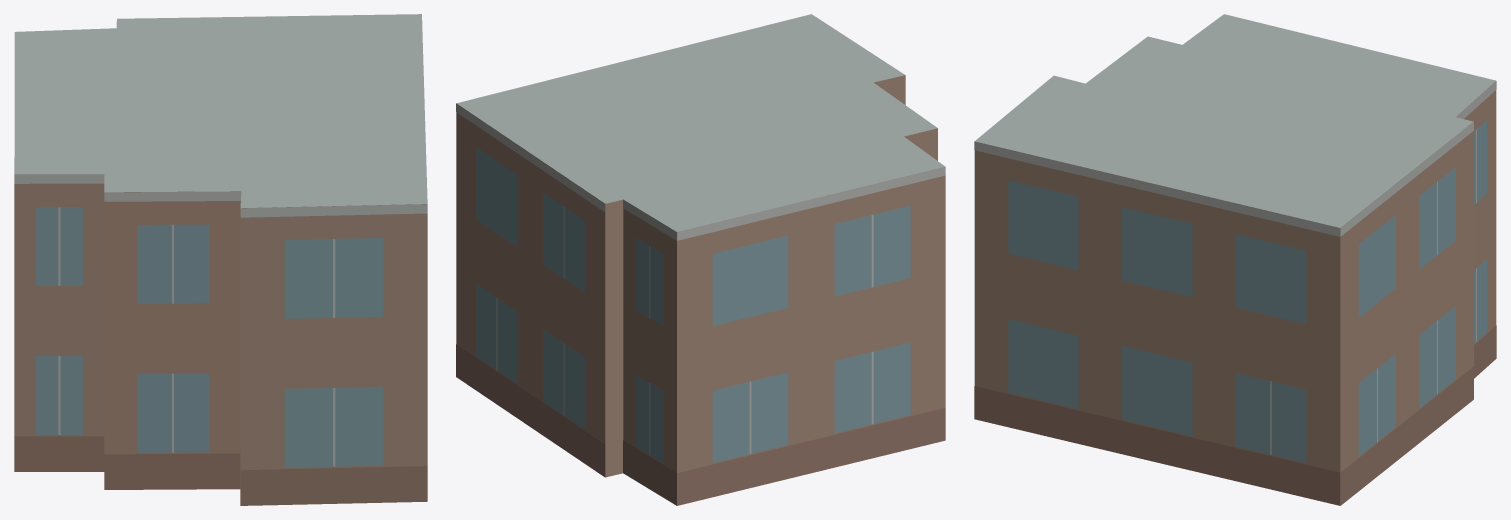
The model's file is survey-upis-32924075.glb.
3 renders of one model, left to right at view 1: azimuth 30°, elevation 25°; view 2: azimuth 150°, elevation 25°; view 3: azimuth 270°, elevation 25°, orthographic. The views are drawn at different scales.
Visible parts, largest first — view 1: survey-upis-32924075.tmp; view 2: survey-upis-32924075.tmp; view 3: survey-upis-32924075.tmp.
Part boxes in pixels (x1,y1,x2,y2): survey-upis-32924075.tmp: [14, 14, 427, 505]; survey-upis-32924075.tmp: [456, 14, 945, 505]; survey-upis-32924075.tmp: [974, 14, 1496, 505].
Size of the model in its own units: 12.56 by 7.6 by 12.95.
